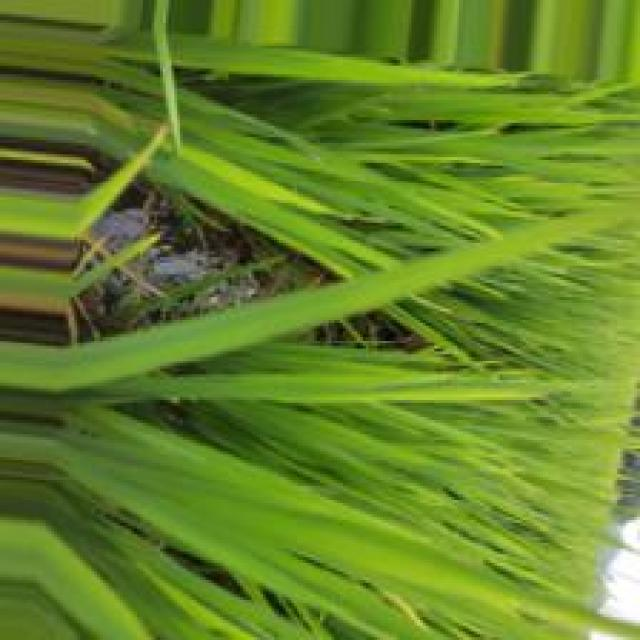HealthyLeaf: (0, 196, 635, 395)
